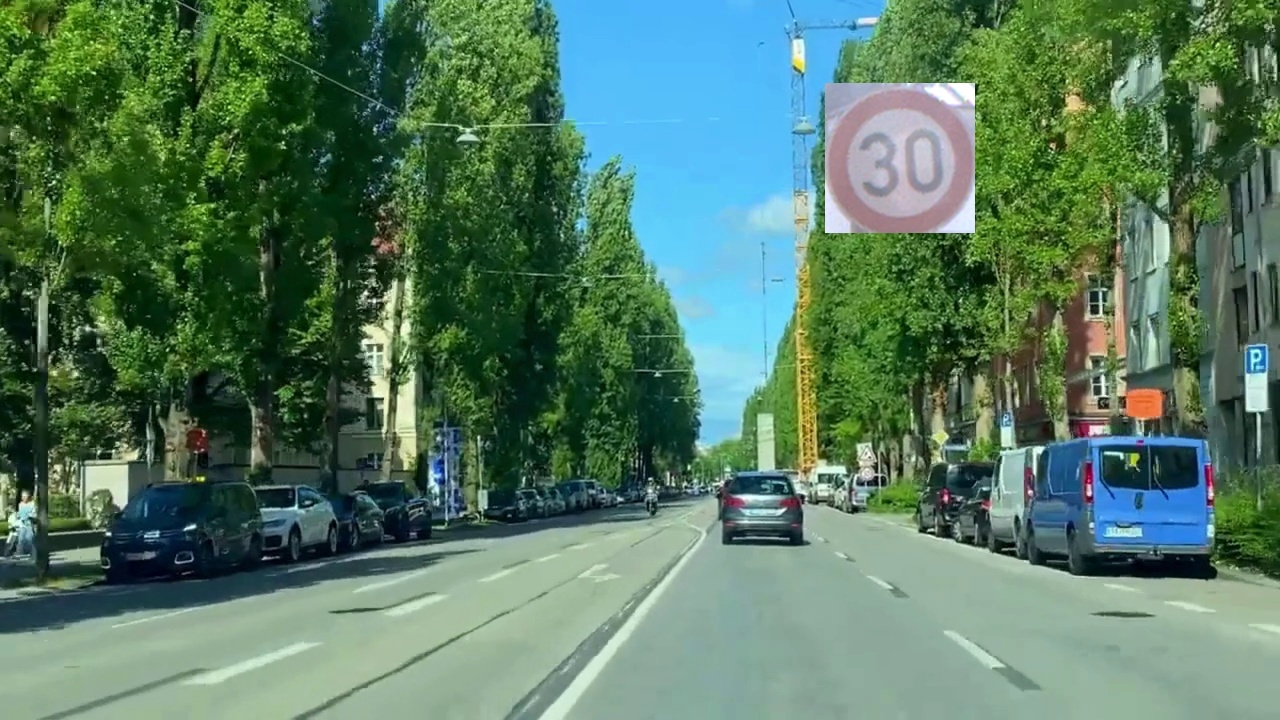Speed 30: (825, 83, 975, 233)
